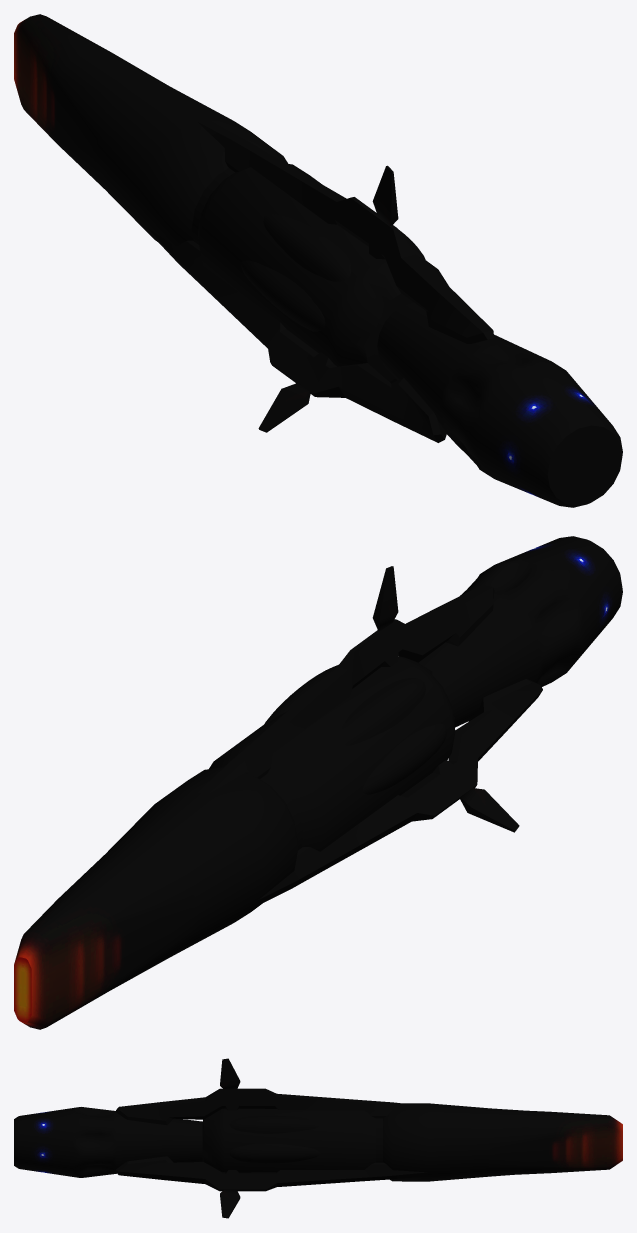
The model's file is yao_cf_homi_01_t1.glb.
The picture shows the model from 3 angles, top to bottom: view 1: azimuth 30°, elevation 25°; view 2: azimuth 150°, elevation 25°; view 3: azimuth 270°, elevation 25°; orthographic projection. The views are drawn at different scales.
Parts seen in each view (by area): view 1: yao_deep_space_torpedo_LOD0; view 2: yao_deep_space_torpedo_LOD0; view 3: yao_deep_space_torpedo_LOD0.
Boxes of the visible parts, <box> form: yao_deep_space_torpedo_LOD0: <box>14,14,622,507</box>; yao_deep_space_torpedo_LOD0: <box>14,536,622,1029</box>; yao_deep_space_torpedo_LOD0: <box>14,1058,622,1218</box>.
Size of what is drawn, in the model's own units: 0.53 by 0.459 by 2.01.
Materials: 1 (1 with a texture image).
